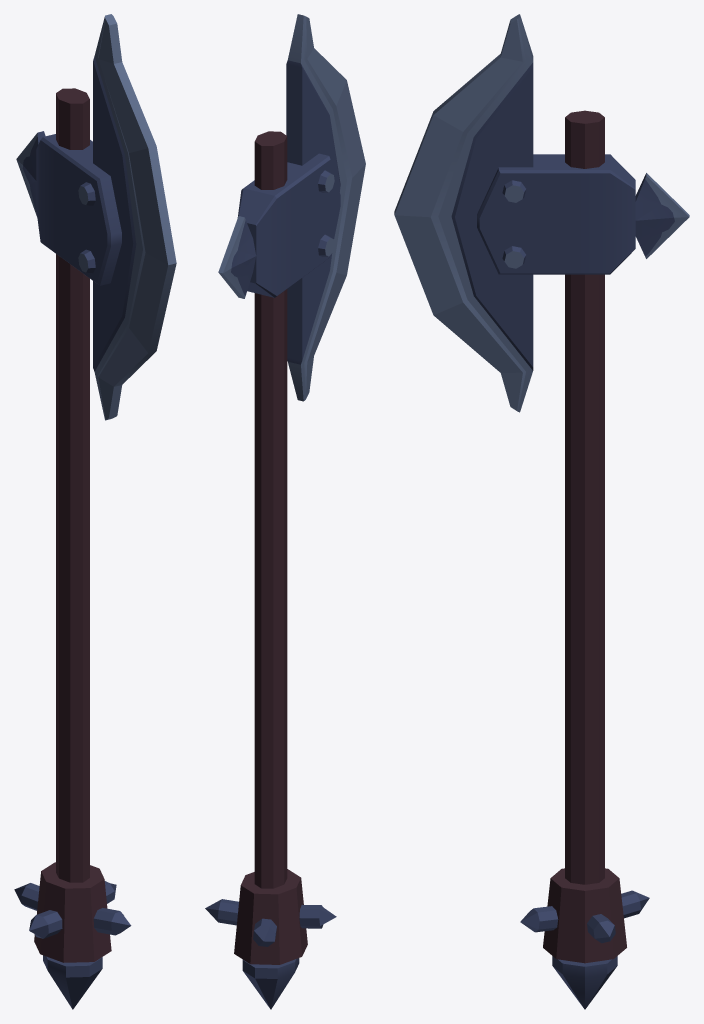
The model's file is Battle_Axe_04.fbx.
3 views of the same model, side by side, from view 1: azimuth 30°, elevation 25°; view 2: azimuth 150°, elevation 25°; view 3: azimuth 270°, elevation 25° (orthographic). The views are drawn at different scales.
Visible parts, largest first — view 1: Battle Axe 04; view 2: Battle Axe 04; view 3: Battle Axe 04.
Boxes of the visible parts, x1,y1,x2,y2 form: Battle Axe 04: [14, 14, 176, 1009]; Battle Axe 04: [205, 14, 365, 1009]; Battle Axe 04: [394, 14, 689, 1009].
Size of the model in its own units: 13.6 by 117 by 31.5.
